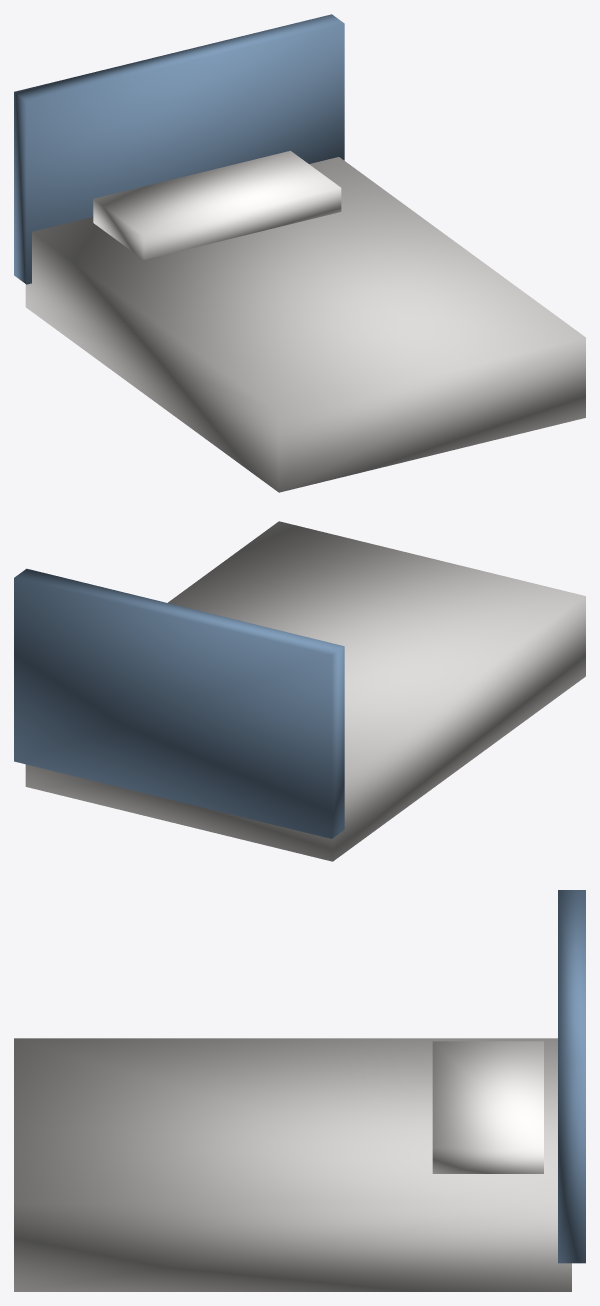
The model's file is bed.glb.
The picture shows the model from 3 angles, top to bottom: view 1: azimuth 30°, elevation 25°; view 2: azimuth 150°, elevation 25°; view 3: azimuth 270°, elevation 25°; orthographic projection. The views are drawn at different scales.
Parts seen in each view (by area): view 1: mattress, headboard, pillow; view 2: mattress, headboard; view 3: mattress, pillow, headboard.
Part boxes in pixels (x1,y1,x2,y2): mattress: (25, 157, 585, 492); headboard: (14, 14, 344, 284); pillow: (93, 151, 341, 259); mattress: (25, 521, 585, 861); headboard: (14, 568, 344, 838); mattress: (14, 1038, 571, 1291); pillow: (432, 1041, 543, 1173); headboard: (558, 890, 585, 1263).
Bounding box in the file's own units: 1.45 × 0.925 × 2.05.
